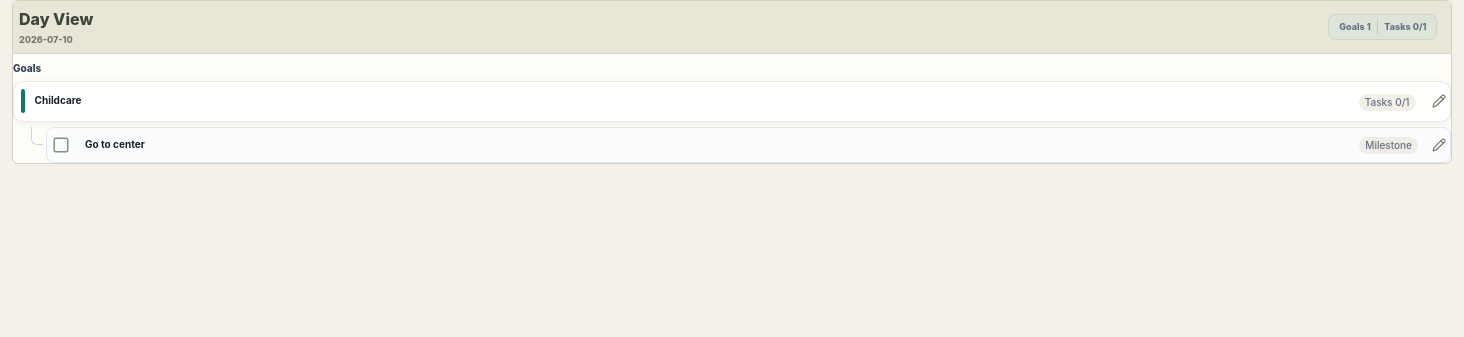
Test: DateDetail › opens goal editing from the goal row pencil when the goal has milestones
This screenshot has width=1464, height=337.
Click the button titled "Edit goal": (1439, 101) [1428,82,1450,120]
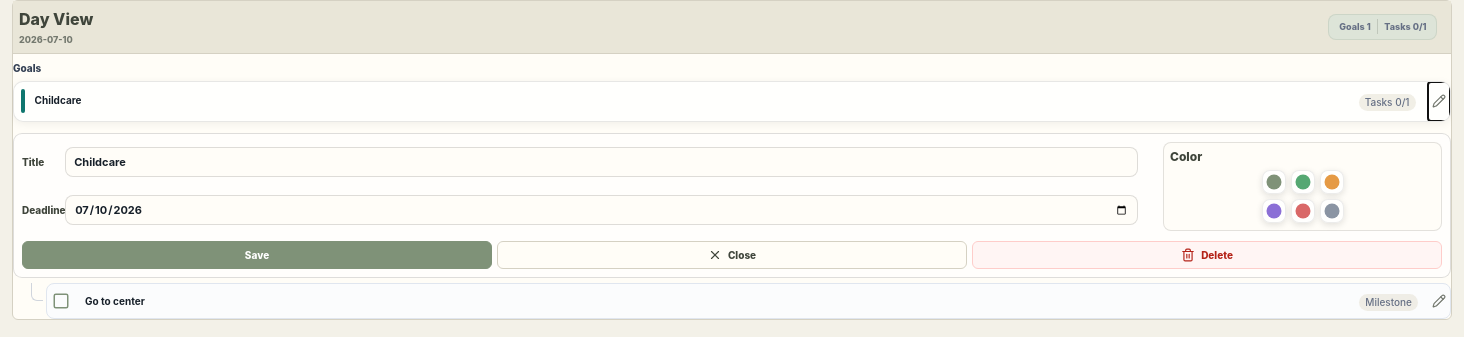
Expected: the field showing "Childcare" is shown, [65,147,1138,177]
Expected: the date field labelled "Deadline" is shown, [65,195,1138,225]
